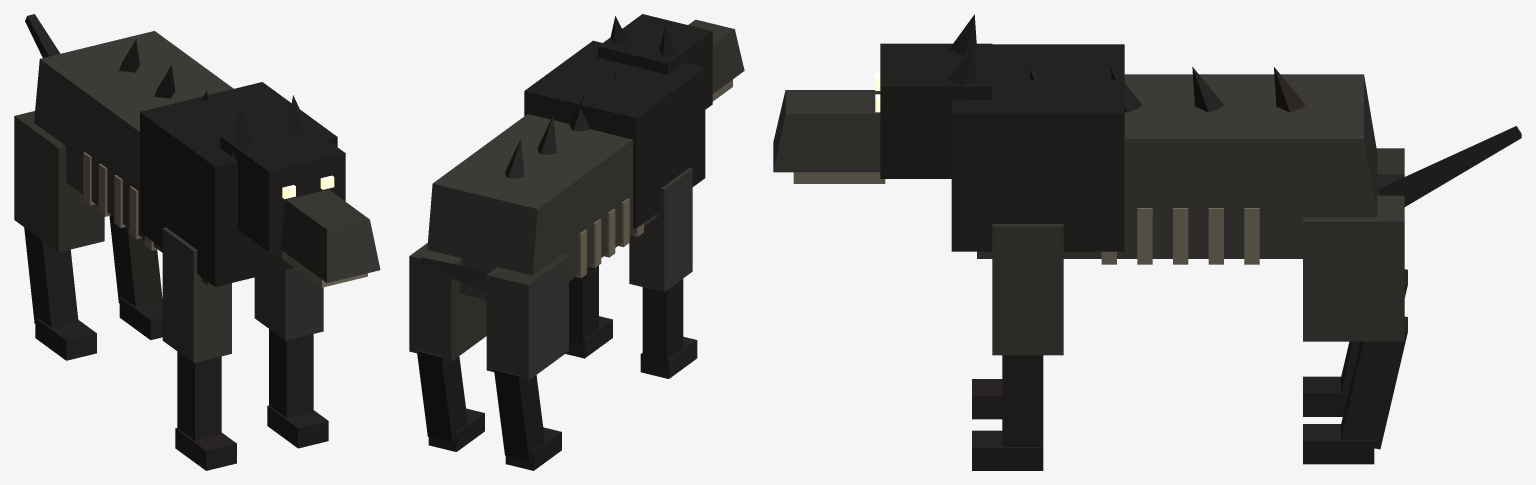
The model's file is hound.glb.
3 views of the same model, side by side, from view 1: azimuth 30°, elevation 25°; view 2: azimuth 150°, elevation 25°; view 3: azimuth 270°, elevation 25° (orthographic). The views are drawn at different scales.
Visible parts, largest first — view 1: Torso, Head, Leg_R, Arm_R, Arm_L, Leg_L; view 2: Torso, Leg_R, Leg_L, Arm_R, Head, Arm_L; view 3: Torso, Head, Leg_L, Arm_L, Leg_R, Arm_R.
Part boxes in pixels (x1,y1,x2,y2): Torso: (25,14,337,286); Head: (220,95,380,287); Leg_R: (14,111,104,360); Arm_R: (162,227,236,470); Arm_L: (254,267,328,448); Leg_L: (109,215,162,340); Torso: (419,40,705,299); Leg_R: (486,254,568,470); Leg_L: (409,243,486,451); Arm_R: (629,168,697,378); Head: (598,14,744,109); Arm_L: (565,265,612,358); Torso: (951,44,1521,264); Head: (773,14,992,183); Leg_L: (1303,195,1407,464); Arm_L: (972,224,1063,470); Leg_R: (1303,148,1407,416); Arm_R: (972,379,1002,419).
Size of the model in its own units: 0.34 by 0.883 by 1.47.
